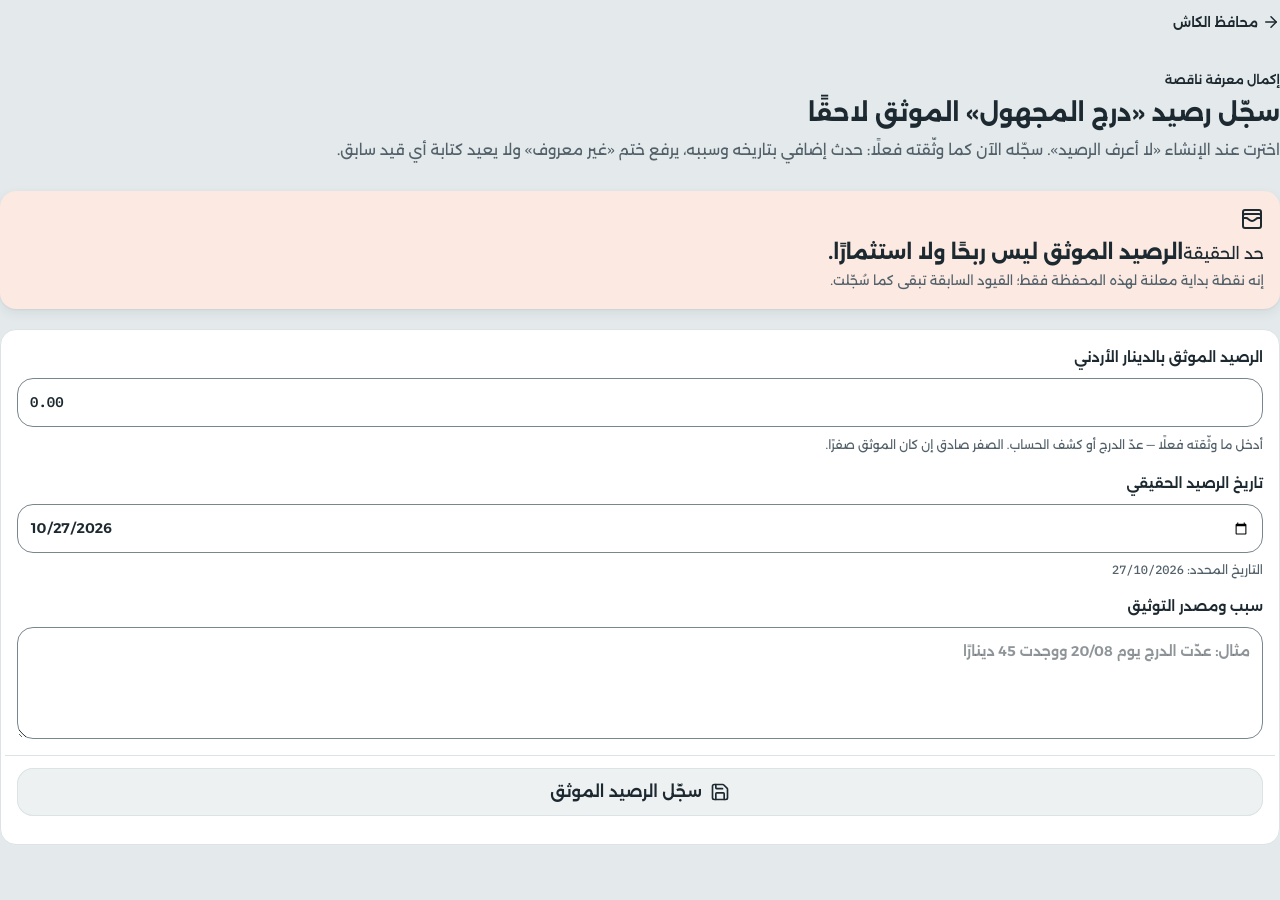
Test: R10-B4/F-020 — CashOpeningLaterEditor direct journeys › an unknown-opening wallet reaches the ready editor; premature save announces the validation errors
Expected: the heading "سجّل رصيد «درج المجهول» الموثق لاحقًا" is shown, [808,98,1279,127]
Click the button "سجّل الرصيد الموثق".
click(640, 792)  # box [17,768,1263,816]
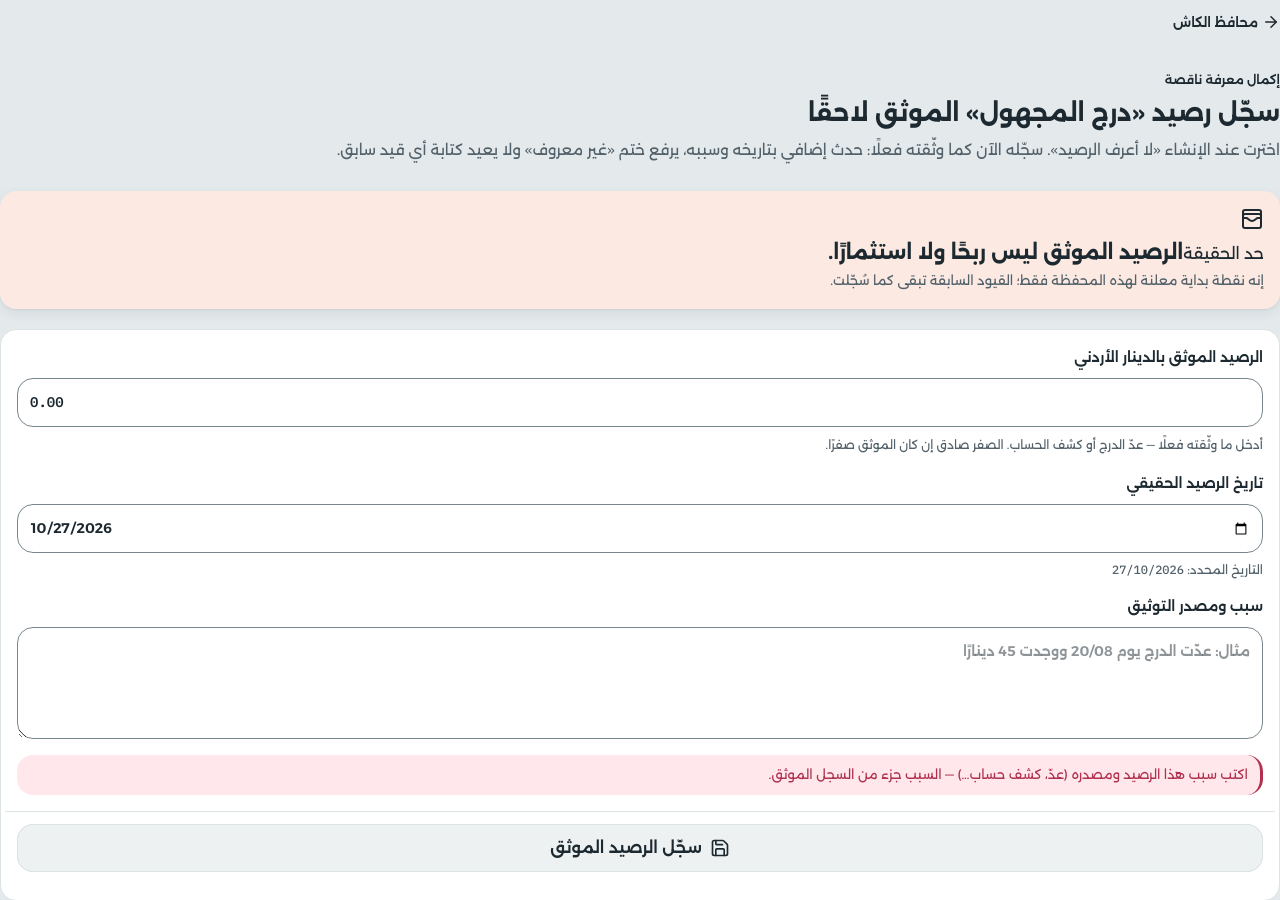
Expected: the message shows "سبب هذا الرصيد", [769,766,1248,782]
